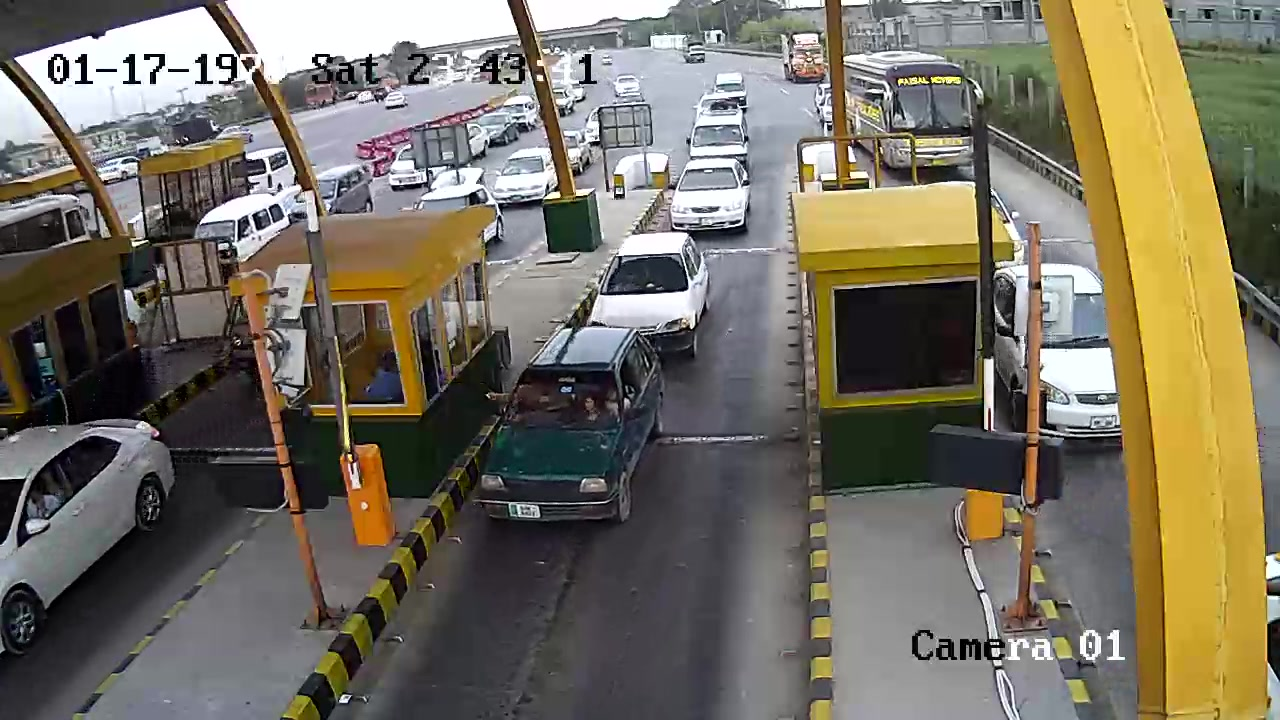F1: (471, 324, 679, 535)
